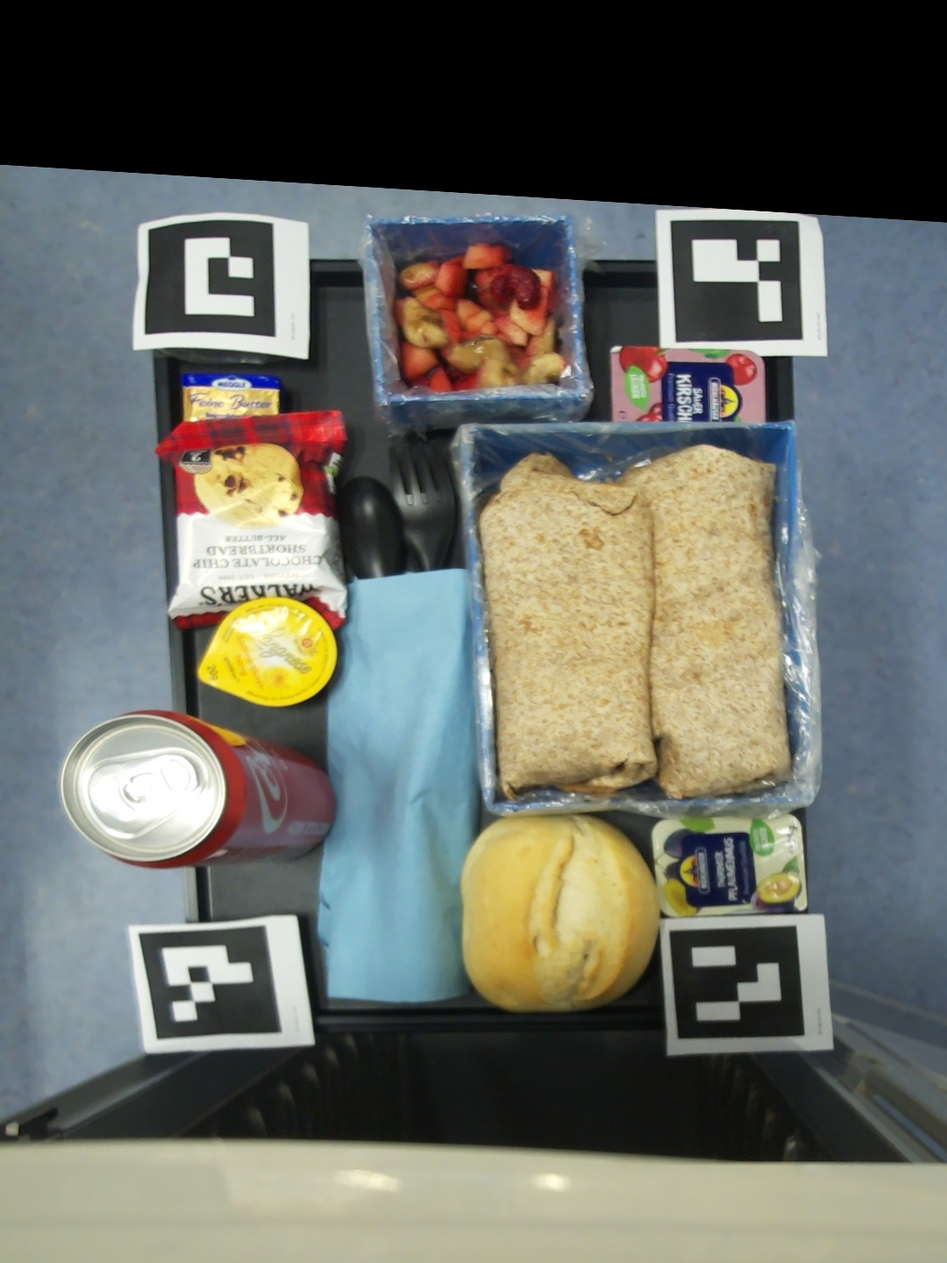bread_roll: (460, 814, 657, 1011)
butter: (182, 375, 280, 423)
cherry_jam: (609, 345, 765, 423)
cola: (59, 711, 336, 870)
cookie: (154, 411, 348, 631)
fruit_salad: (395, 241, 565, 391)
honey: (197, 597, 336, 706)
plum_jam: (648, 814, 805, 917)
wrap_half_1: (478, 453, 655, 799)
wrap_half_2: (613, 444, 788, 802)
